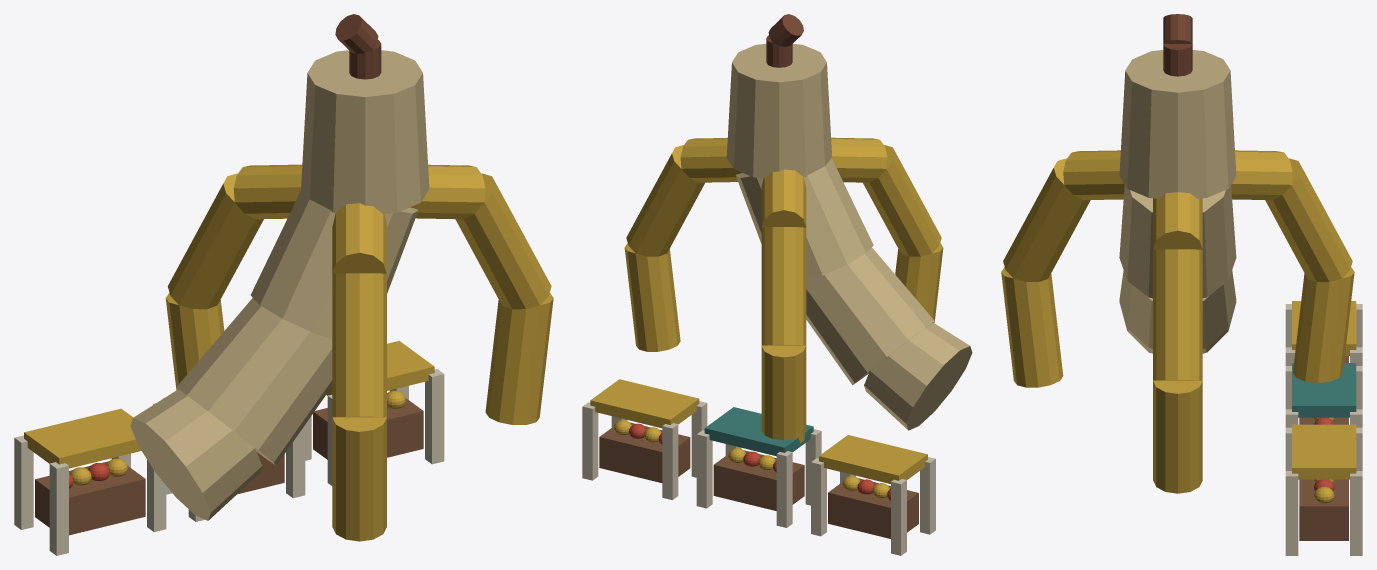
Rendered from banana-snacks.glb.
3 views of the same model, side by side, from view 1: azimuth 30°, elevation 25°; view 2: azimuth 150°, elevation 25°; view 3: azimuth 270°, elevation 25° (orthographic). The views are drawn at different scales.
Parts seen in each view (by area): view 1: banana-snacks; view 2: banana-snacks; view 3: banana-snacks.
Boxes of the visible parts, bbox=[...] form: banana-snacks: bbox=[14, 14, 553, 555]; banana-snacks: bbox=[582, 14, 972, 555]; banana-snacks: bbox=[1001, 14, 1362, 555].
Size of the model in its own units: 15.61 by 18.03 by 12.36.
